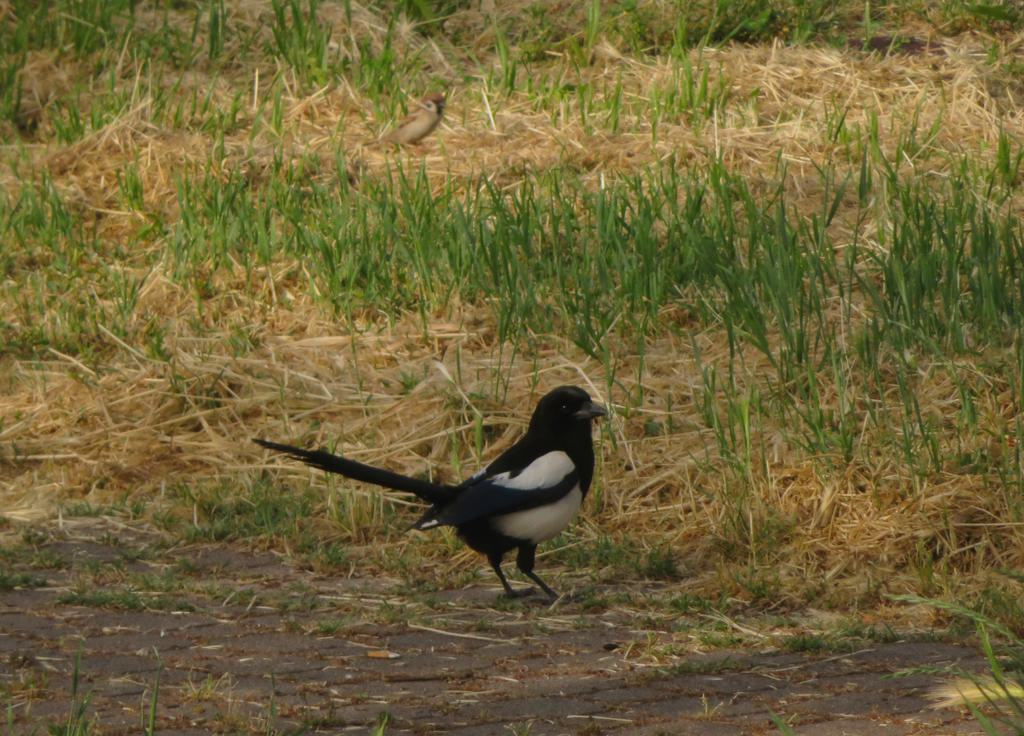PicaPica: (250, 384, 607, 599)
